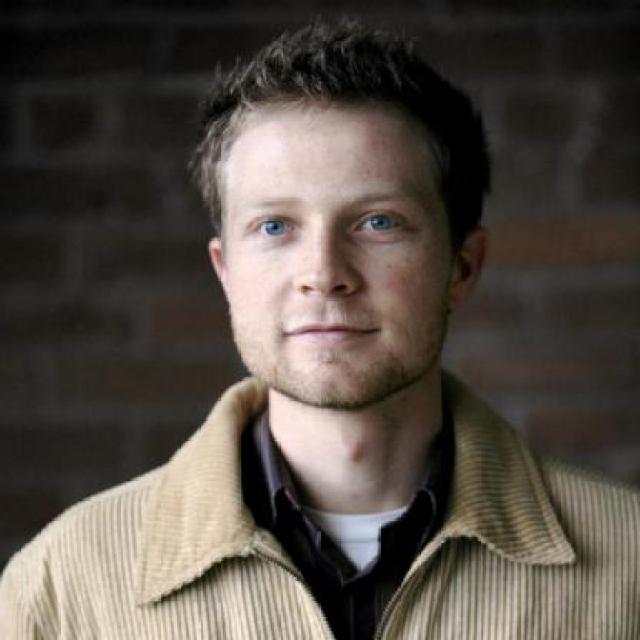awake: (354, 210, 406, 235), (249, 216, 294, 238)
